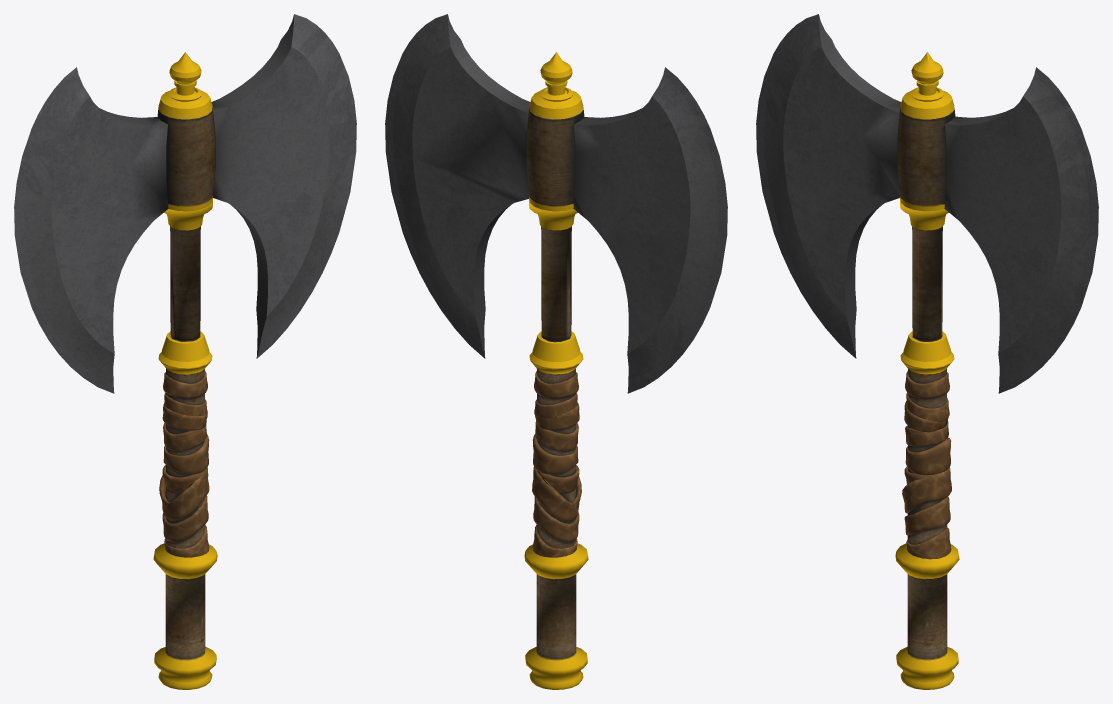
Rendered from battleaxe.glb.
3 renders of one model, left to right at view 1: azimuth 30°, elevation 25°; view 2: azimuth 150°, elevation 25°; view 3: azimuth 330°, elevation 25°, orthographic.
Visible parts, largest first — view 1: Lama.001; view 2: Lama.001; view 3: Lama.001.
Part boxes in pixels (x1=…): Lama.001: x1=14, y1=14, x2=356, y2=689; Lama.001: x1=385, y1=14, x2=727, y2=689; Lama.001: x1=756, y1=14, x2=1098, y2=689.
Size of the model in its own units: 9.77 by 17.53 by 1.6.
1 material, 1 textured.
